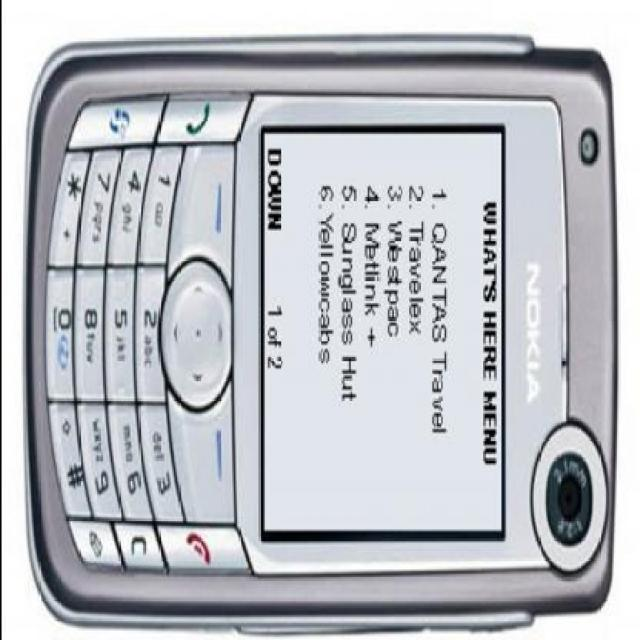phone: (18, 38, 616, 638)
